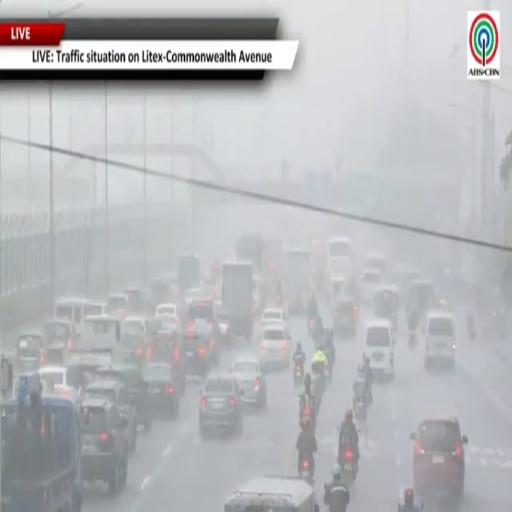car: (81, 398, 128, 494), (411, 418, 467, 498), (85, 379, 137, 451), (96, 364, 152, 430), (200, 375, 243, 437), (147, 331, 186, 394), (121, 316, 164, 366), (144, 363, 179, 418), (364, 319, 394, 379), (233, 358, 267, 409), (424, 312, 455, 367), (184, 319, 220, 366), (183, 323, 212, 376), (43, 318, 77, 363), (259, 324, 291, 371), (54, 297, 91, 335), (121, 316, 149, 366), (38, 366, 79, 398), (373, 284, 399, 333), (15, 332, 44, 373), (333, 296, 358, 339), (125, 286, 155, 314), (187, 297, 214, 325), (360, 268, 381, 303), (150, 276, 176, 303), (106, 294, 130, 321), (215, 311, 232, 347), (156, 303, 179, 327), (261, 308, 287, 329), (329, 276, 348, 302), (365, 251, 386, 274), (183, 288, 203, 312), (84, 302, 106, 317)
motorcycle: (338, 446, 356, 486), (300, 403, 316, 430), (299, 456, 314, 481), (354, 397, 368, 421), (294, 361, 303, 386), (307, 316, 317, 338), (467, 322, 476, 341), (408, 331, 417, 348), (325, 362, 332, 383), (397, 503, 410, 511), (468, 327, 475, 341)
truck: (2, 374, 82, 511), (222, 262, 253, 341), (286, 249, 311, 313), (236, 234, 264, 274)
